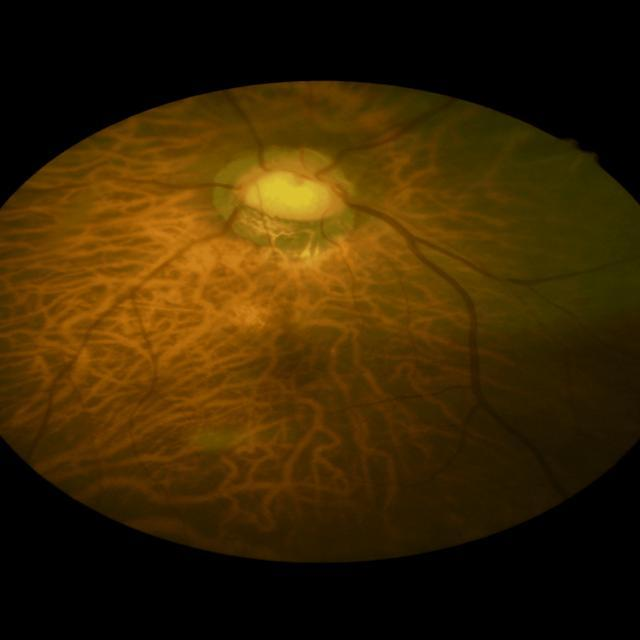cup: (240, 166, 342, 214)
disk: (232, 158, 354, 220)
